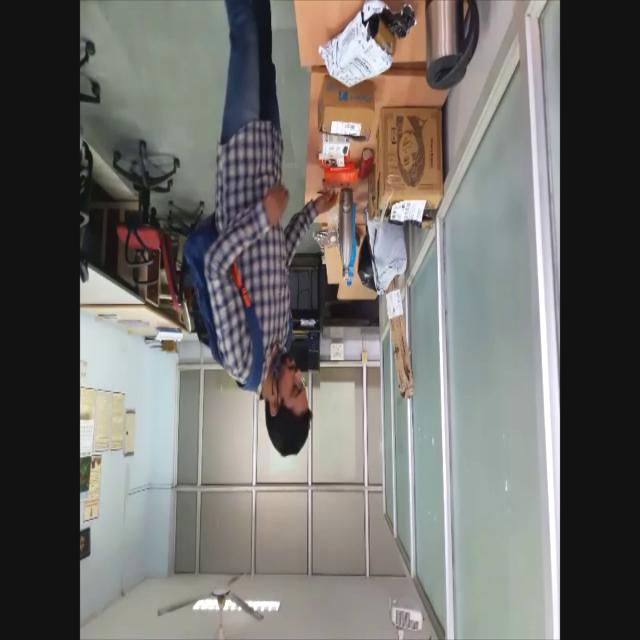normal: (178, 0, 342, 491)
